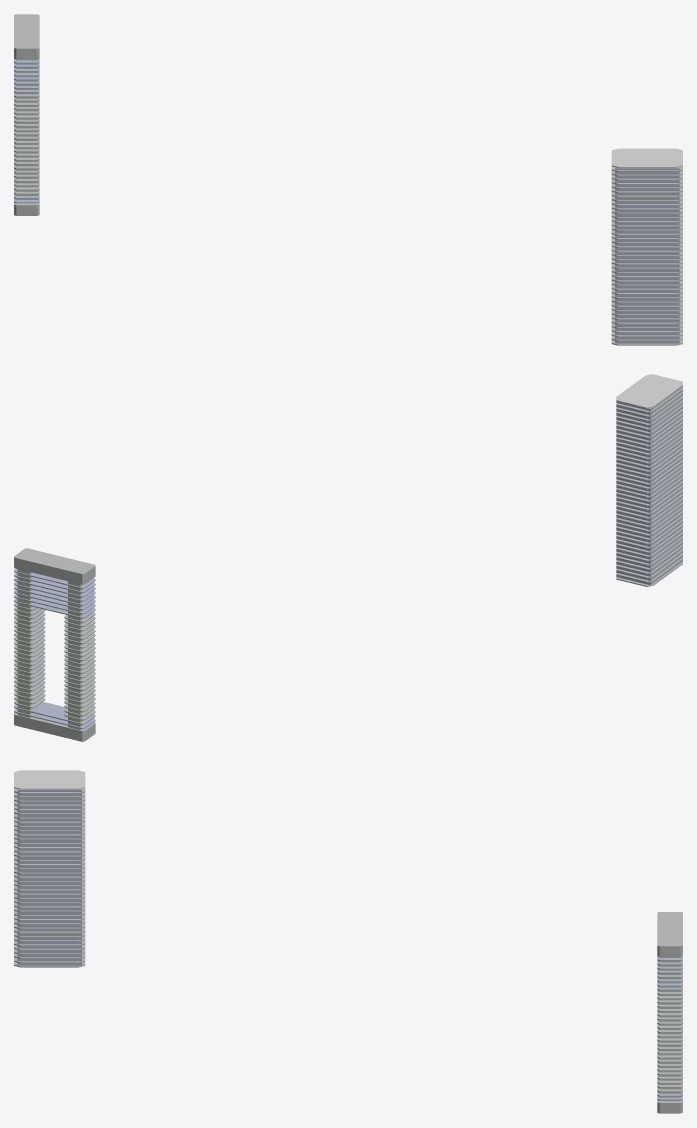
Rendered from city5.glb.
The picture shows the model from 3 angles, top to bottom: view 1: azimuth 90°, elevation 25°; view 2: azimuth 150°, elevation 25°; view 3: azimuth 270°, elevation 25°; orthographic projection.
Parts seen in each view (by area): view 1: Mesh_Mesh_head_geo.001_lambert2SG.001; view 2: Mesh_Mesh_head_geo.001_lambert2SG.001; view 3: Mesh_Mesh_head_geo.001_lambert2SG.001.
Part boxes in pixels (x1,y1,x2,y2): Mesh_Mesh_head_geo.001_lambert2SG.001: (14, 14, 682, 345); Mesh_Mesh_head_geo.001_lambert2SG.001: (14, 374, 682, 741); Mesh_Mesh_head_geo.001_lambert2SG.001: (14, 770, 682, 1113).
Size of the model in its own units: 333 by 169 by 573.
